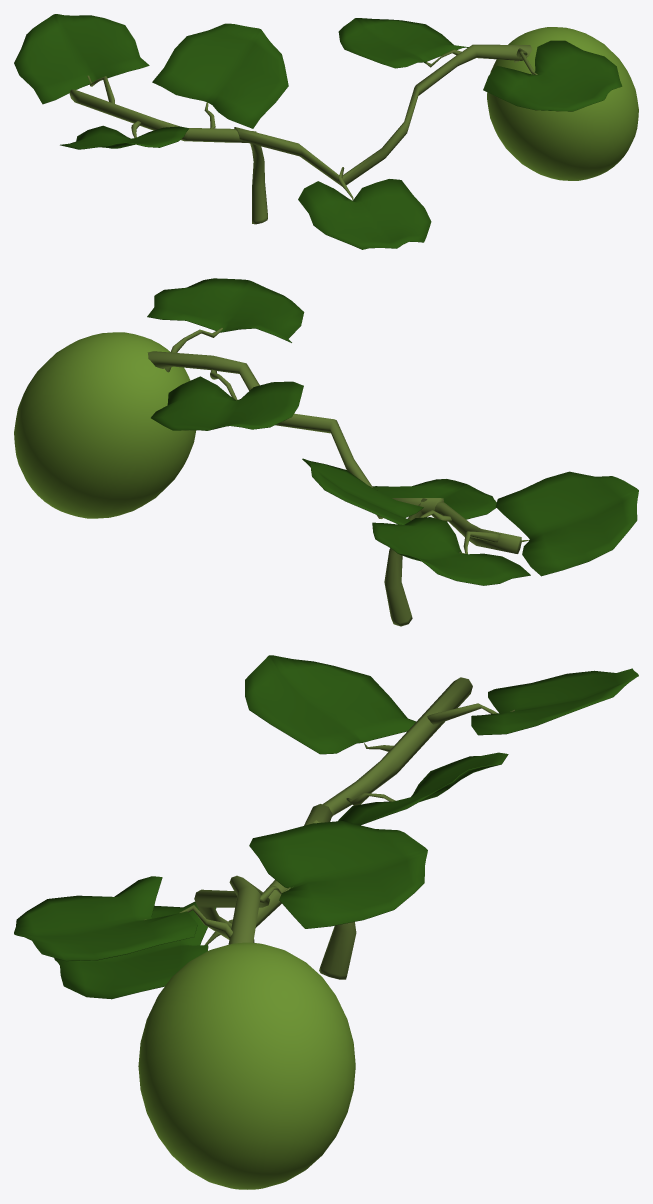
File: MelaoVerde.fbx
3 views of the same model, one above another, from view 1: azimuth 30°, elevation 25°; view 2: azimuth 150°, elevation 25°; view 3: azimuth 270°, elevation 25° (orthographic). The views are drawn at different scales.
Parts seen in each view (by area): view 1: MelaoVerde; view 2: MelaoVerde; view 3: MelaoVerde.
Boxes of the visible parts, left/top/right/bottom form: MelaoVerde: left=14, top=14, right=638, bottom=249; MelaoVerde: left=14, top=278, right=638, bottom=626; MelaoVerde: left=14, top=655, right=638, bottom=1189.
Bounding box in the file's own units: 64.02 × 18.3 × 44.71.
